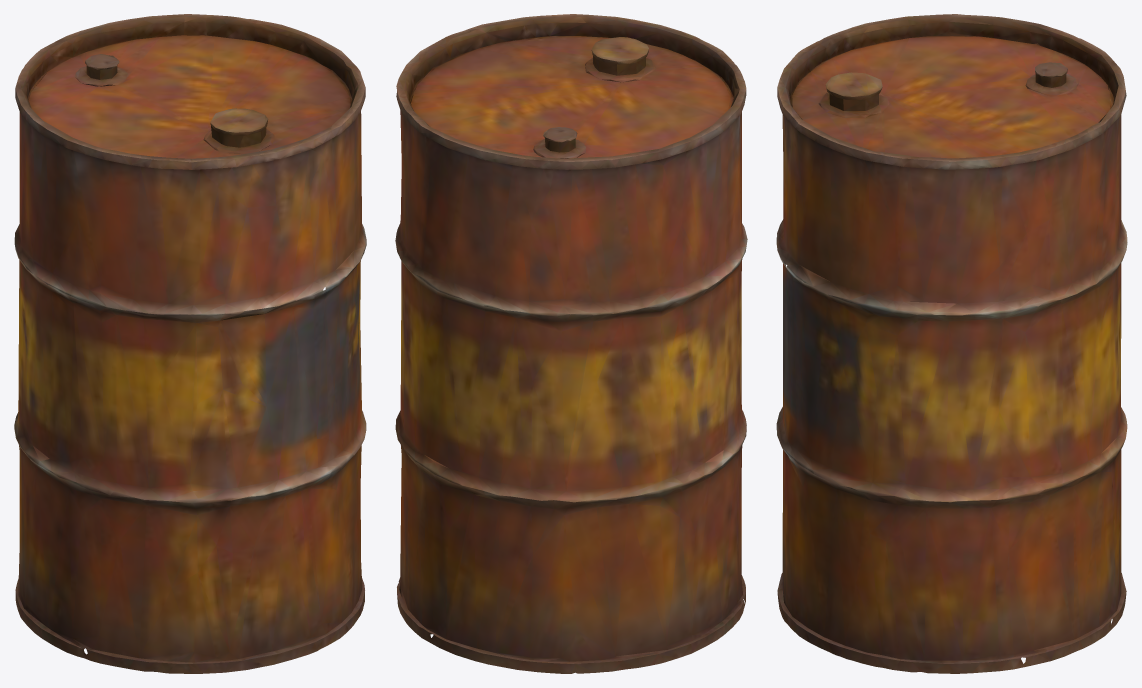
File: barrel.glb
3 views of the same model, side by side, from view 1: azimuth 30°, elevation 25°; view 2: azimuth 150°, elevation 25°; view 3: azimuth 270°, elevation 25° (orthographic).
Visible parts, largest first — view 1: main; view 2: main; view 3: main.
Part boxes in pixels (bbox=[...]): main: bbox=[14, 14, 366, 673]; main: bbox=[395, 14, 747, 673]; main: bbox=[776, 14, 1127, 673].
Size of the model in its own units: 0.5425 by 0.8794 by 0.542.
Materials: 1 (1 with a texture image).
